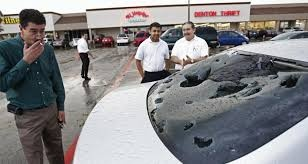Broken-glass: (148, 50, 302, 154)
